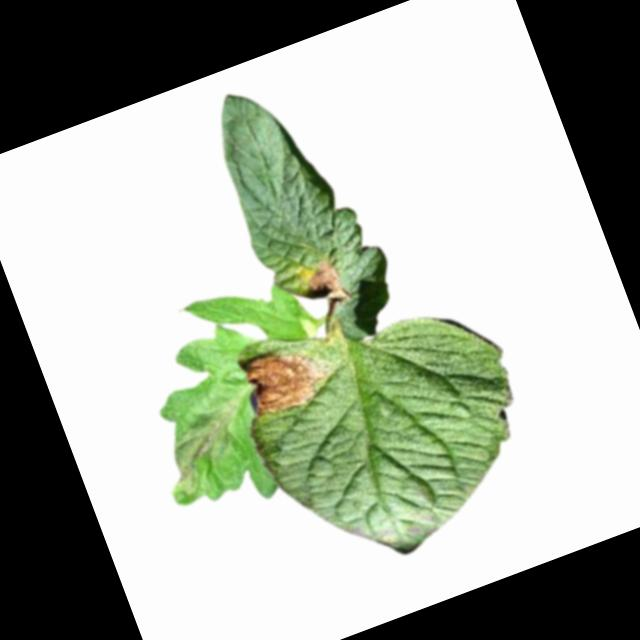Late_blight: (235, 333, 337, 424), (158, 399, 254, 494), (293, 254, 355, 315)
